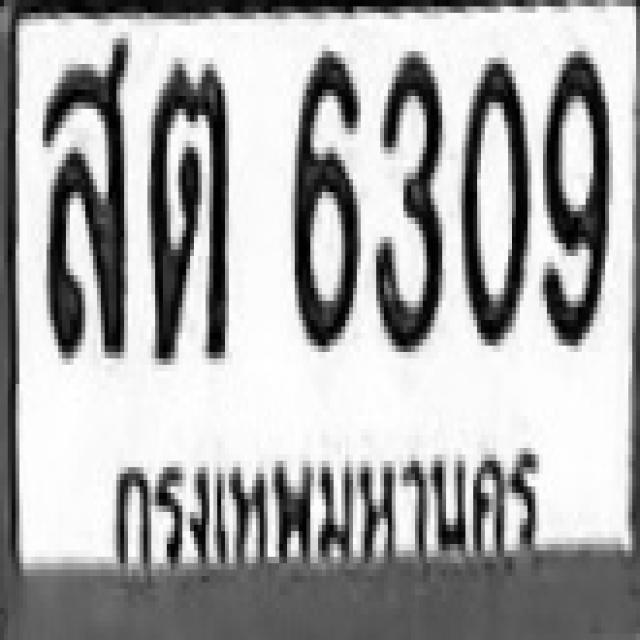0: (458, 51, 528, 339)
3: (372, 48, 442, 349)
30TorTao: (147, 58, 229, 358)
49SorSuea: (39, 35, 128, 355)
6: (289, 44, 359, 346)
9: (539, 45, 609, 339)
Bangkok: (93, 424, 548, 578)
